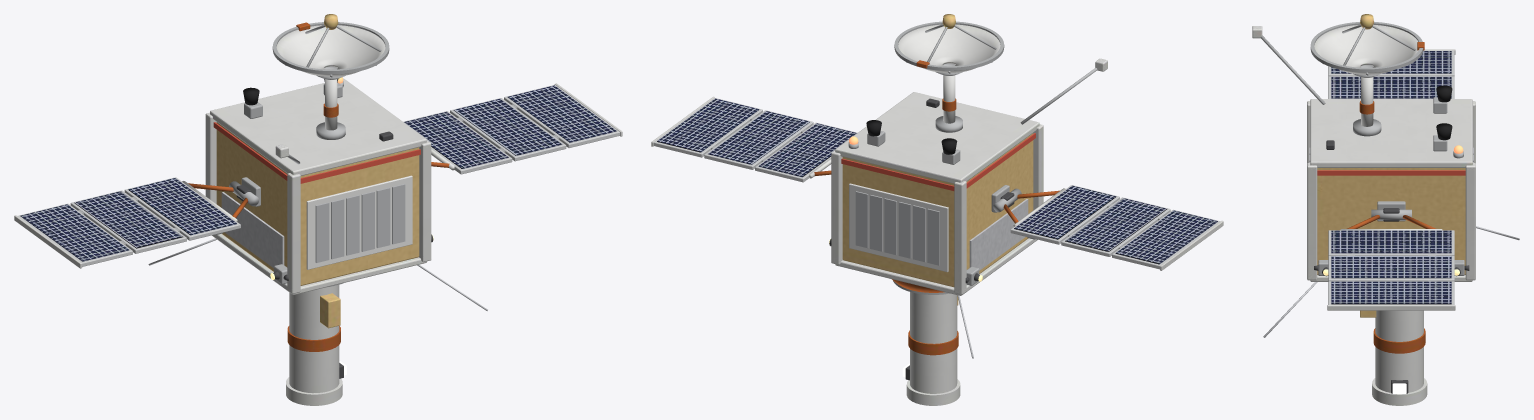
The model's file is survey_satellite_prewarp.glb.
3 renders of one model, left to right at view 1: azimuth 30°, elevation 25°; view 2: azimuth 150°, elevation 25°; view 3: azimuth 270°, elevation 25°, orthographic. The views are drawn at different scales.
Visible parts, largest first — view 1: Body, PanelL, PanelR, Camera, Dish; view 2: Body, PanelL, PanelR, Camera, Dish; view 3: Body, PanelR, Dish, Camera, PanelL.
Boxes of the visible parts, <box> form: Body: <box>148,78,487,310</box>; PanelL: <box>14,177,258,268</box>; PanelR: <box>403,83,622,174</box>; Camera: <box>286,285,343,405</box>; Dish: <box>272,14,389,79</box>; Body: <box>829,58,1107,358</box>; PanelL: <box>993,185,1223,270</box>; PanelR: <box>651,96,857,182</box>; Camera: <box>905,292,960,405</box>; Dish: <box>894,14,1004,75</box>; Body: <box>1252,26,1519,337</box>; PanelR: <box>1327,208,1455,310</box>; Dish: <box>1310,14,1424,77</box>; Camera: <box>1360,310,1427,405</box>; PanelL: <box>1328,49,1455,98</box>.
Bounding box in the file's own units: 2.99 × 2.06 × 1.32.
Materials: 21 (6 with a texture image).
